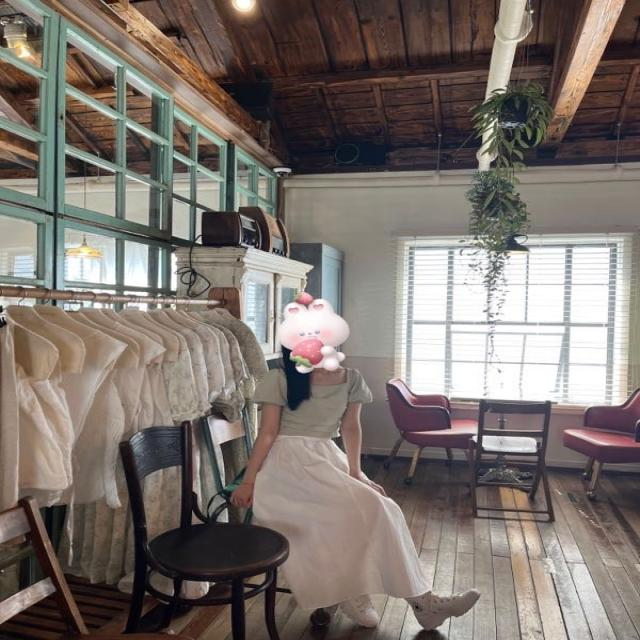shortsleeve: (252, 365, 372, 440)
skirt: (248, 435, 433, 612)
